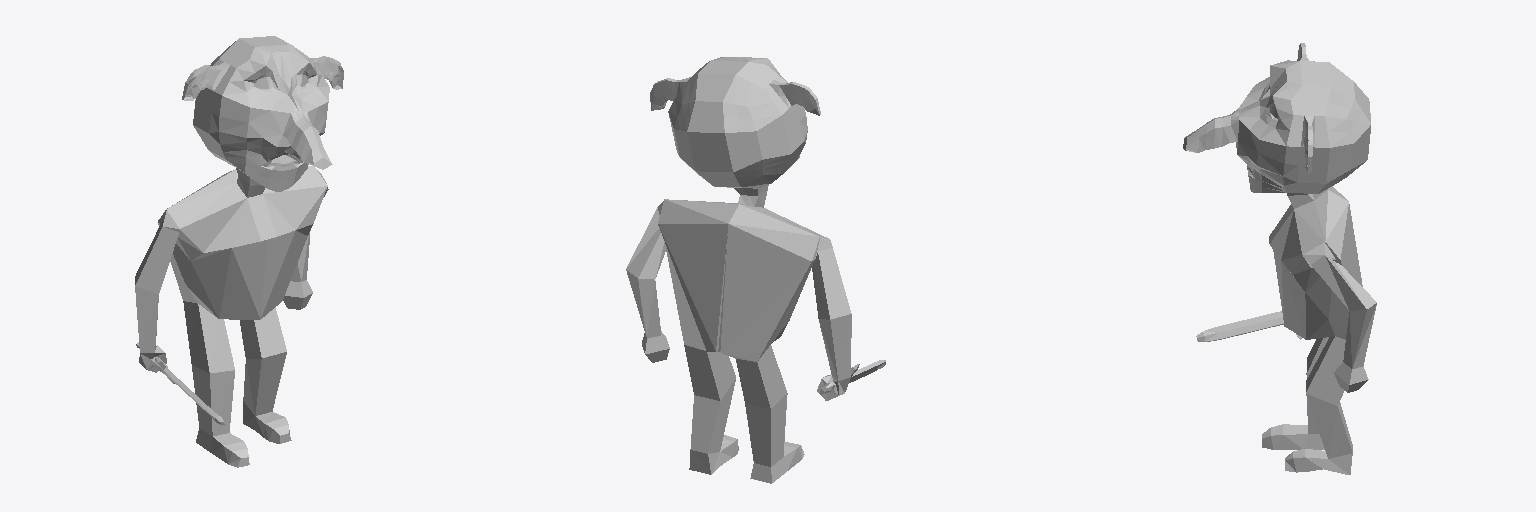
Rendered from andrzejAttack_000148.obj.
The picture shows the model from 3 angles: view 1: azimuth 30°, elevation 25°; view 2: azimuth 150°, elevation 25°; view 3: azimuth 270°, elevation 25°; orthographic projection.
Visible parts, largest first — view 1: Cube; view 2: Cube; view 3: Cube.
Boxes of the visible parts, x1=… form: Cube: x1=135, y1=36, x2=343, y2=467; Cube: x1=626, y1=57, x2=885, y2=483; Cube: x1=1183, y1=43, x2=1376, y2=474.
Bounding box in the file's own units: 4.96 × 9.25 × 4.09.